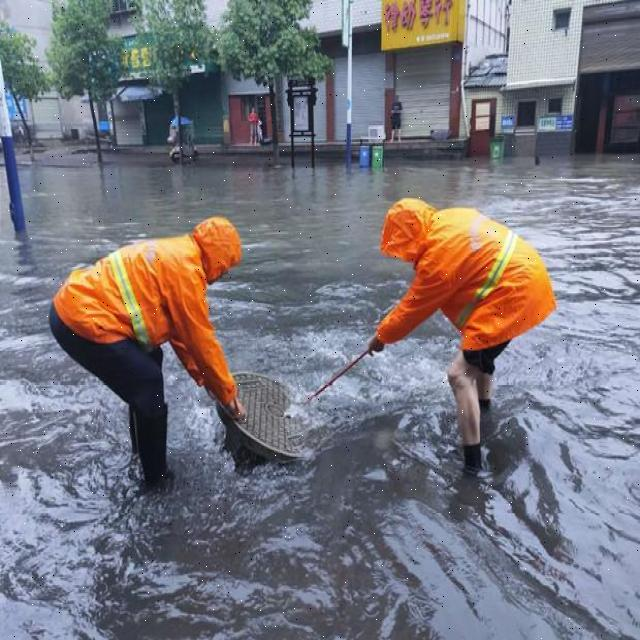rescuer: (39, 214, 252, 502), (378, 190, 559, 482)
